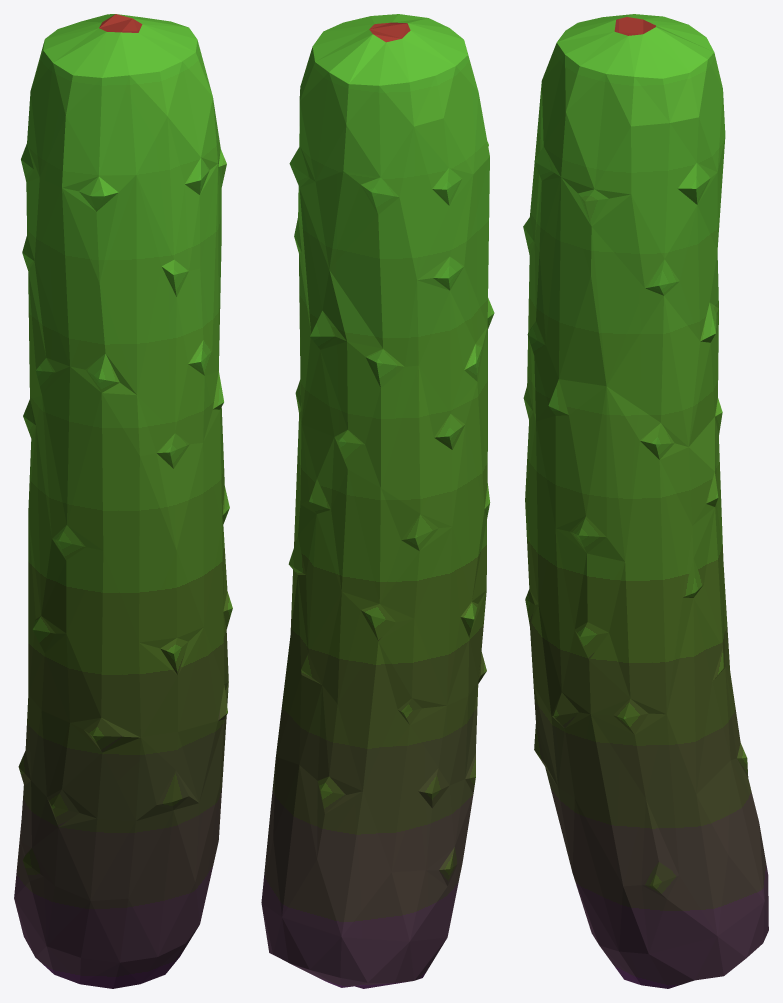
Rendered from cuke.obj.
The picture shows the model from 3 angles, left to right: view 1: azimuth 30°, elevation 25°; view 2: azimuth 150°, elevation 25°; view 3: azimuth 270°, elevation 25°; orthographic projection. The views are drawn at different scales.
Visible parts, largest first — view 1: Cylinder1; view 2: Cylinder1; view 3: Cylinder1.
Part boxes in pixels (bbox=[...]): Cylinder1: bbox=[14, 14, 232, 988]; Cylinder1: bbox=[261, 14, 494, 988]; Cylinder1: bbox=[523, 14, 768, 988].
Size of the model in its own units: 2.18 by 10.62 by 2.51.
Materials: 1 (1 with a texture image).
